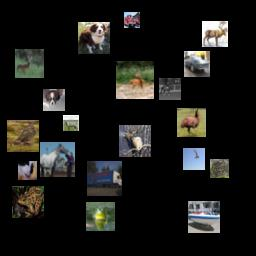automobile: (184, 51, 210, 77)
bird: (7, 120, 39, 152), (177, 108, 206, 137), (183, 148, 205, 170)
cat: (18, 161, 37, 180)
deer: (116, 61, 154, 99), (119, 125, 151, 157), (15, 49, 44, 78), (202, 21, 228, 47)
dog: (78, 22, 110, 54), (43, 89, 65, 111)
frog: (12, 186, 44, 218), (86, 202, 115, 231), (210, 159, 229, 178)
ship: (188, 201, 220, 233)
truck: (87, 161, 122, 196), (124, 12, 140, 28)
